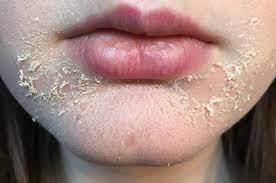Dry-Skin: (25, 26, 92, 143), (98, 84, 161, 148), (166, 73, 224, 140), (233, 15, 270, 84)
